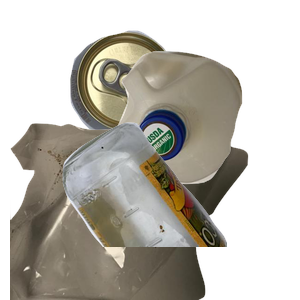glass: (60, 120, 300, 300)
metal: (68, 28, 237, 159)
plastic: (108, 49, 300, 226)
trash: (10, 120, 250, 300)
